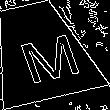M_N: (5, 21, 76, 82)
